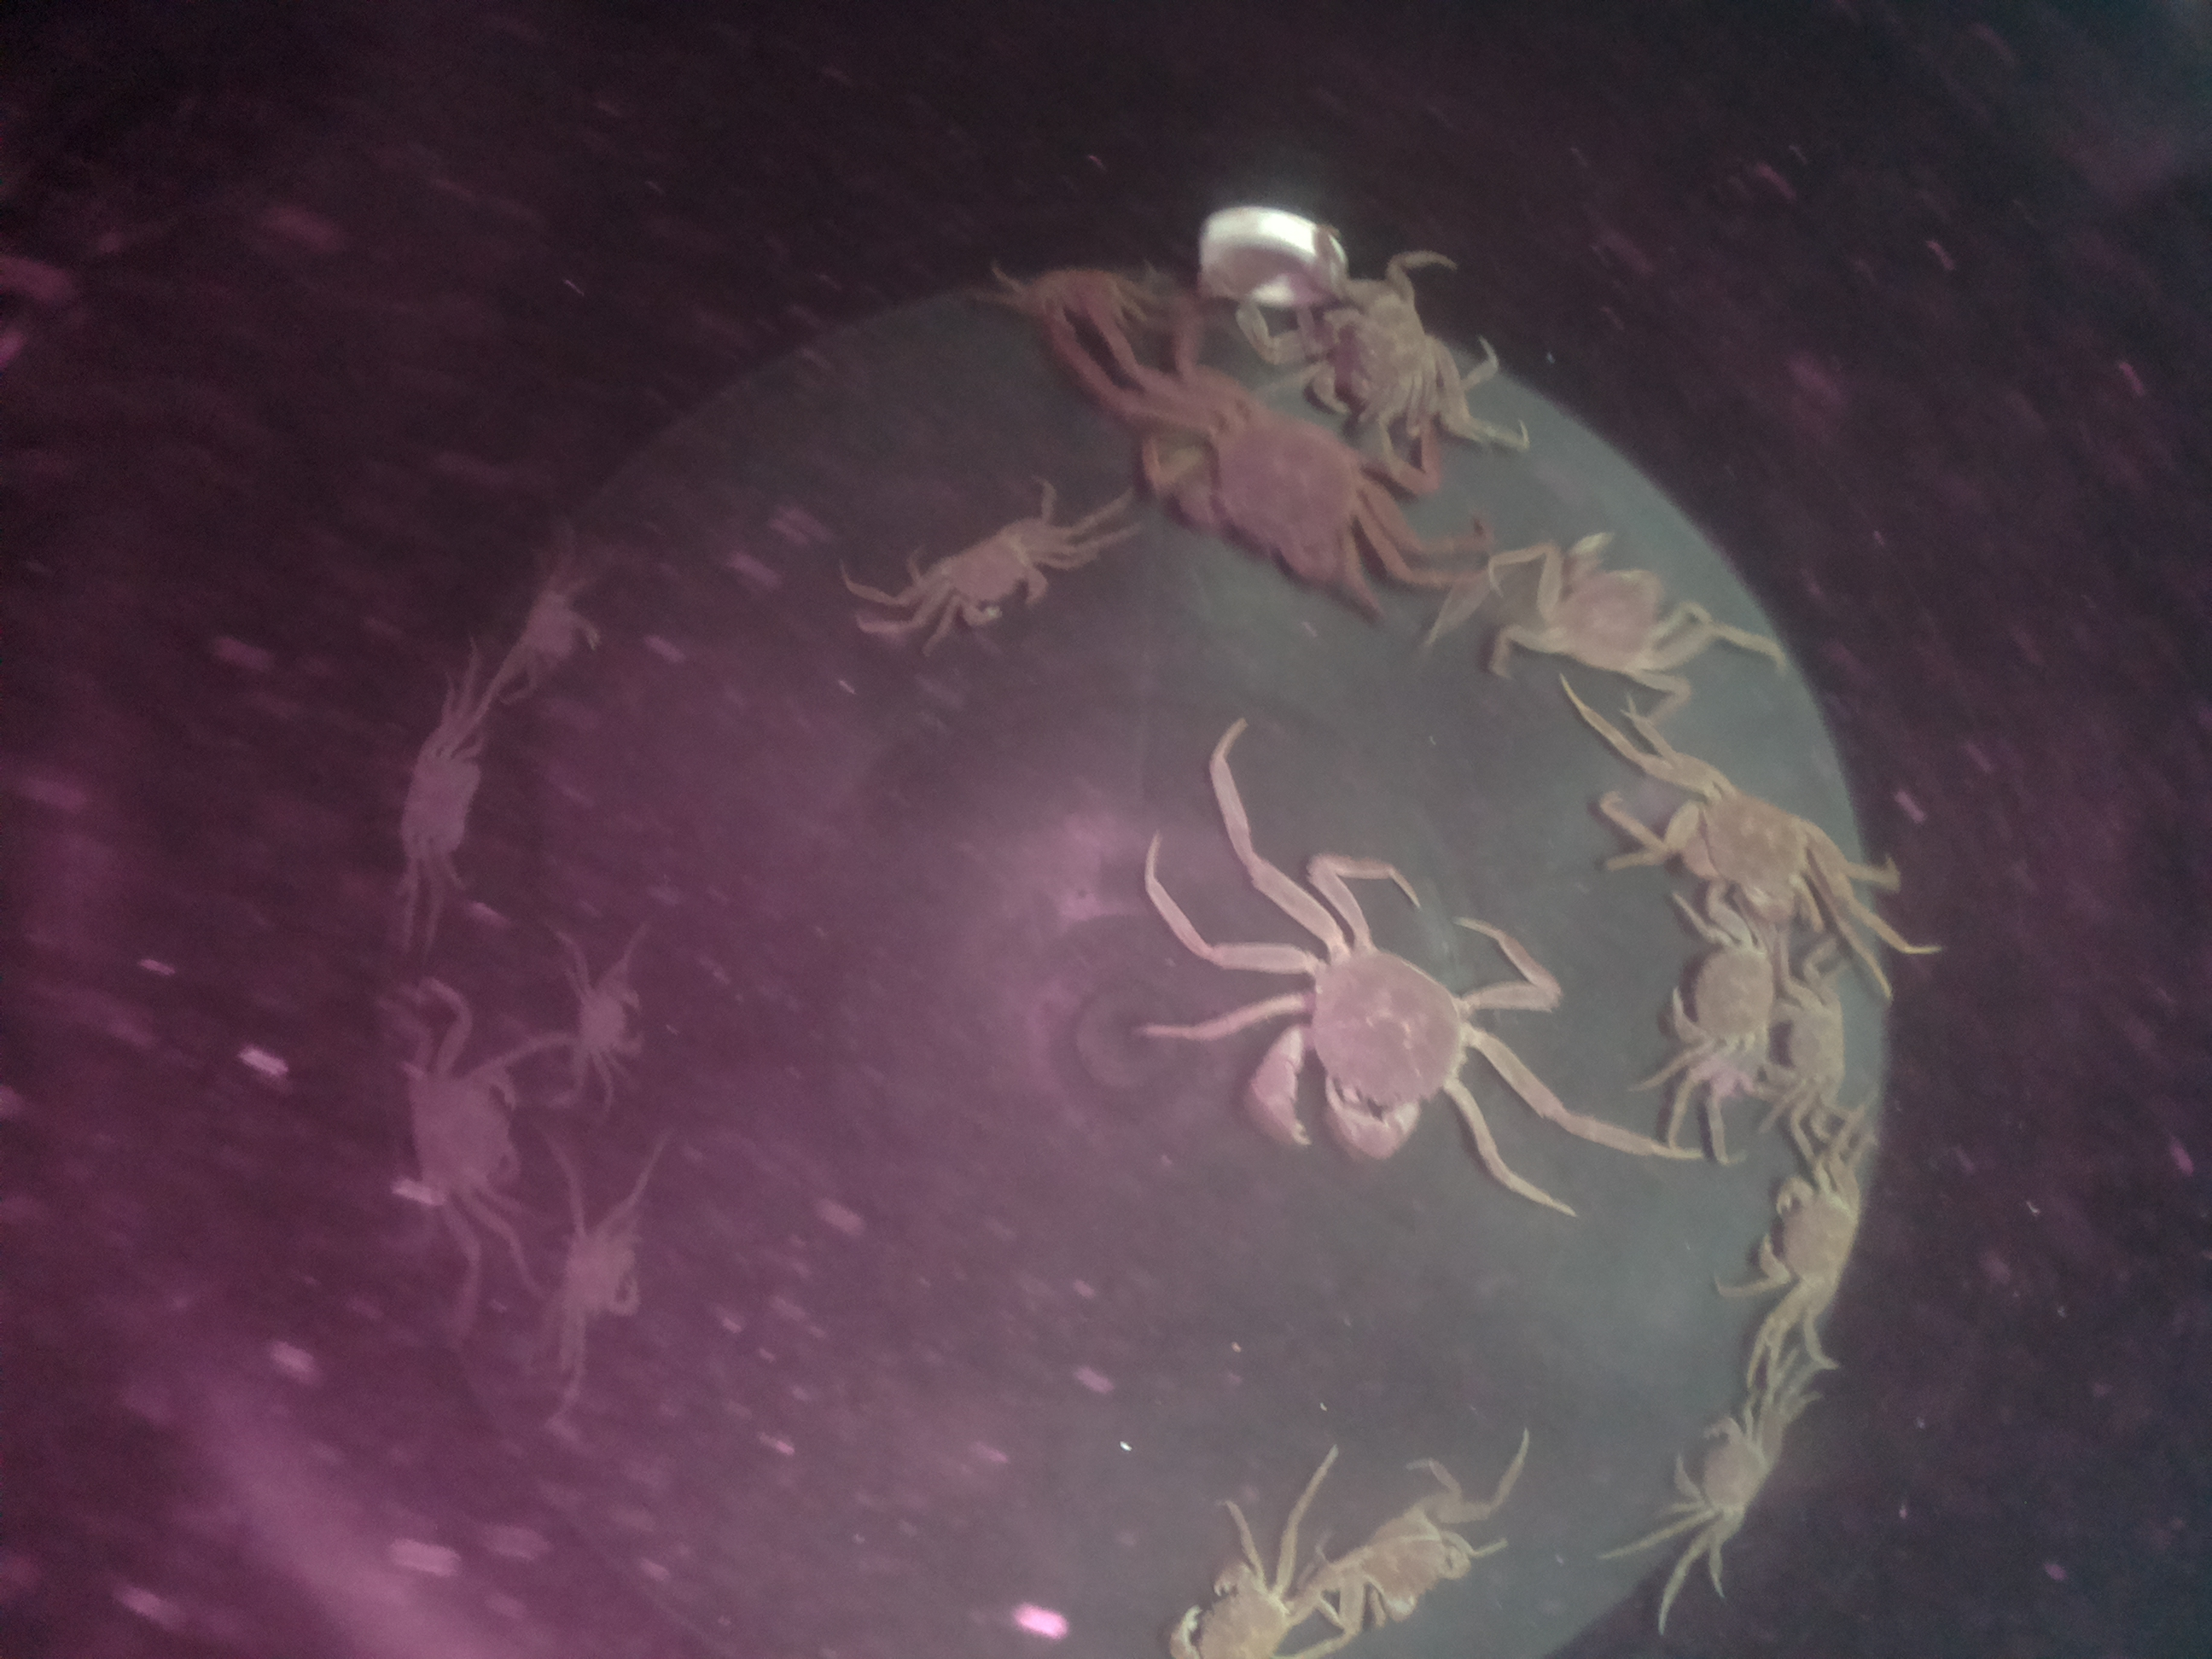Crab: (1209, 927, 1507, 1164), (1660, 741, 1841, 936), (895, 493, 1068, 655), (1644, 906, 1789, 1084), (373, 713, 514, 892), (1653, 1399, 1803, 1558), (1738, 1143, 1878, 1300), (1759, 951, 1879, 1119), (549, 943, 667, 1094)
